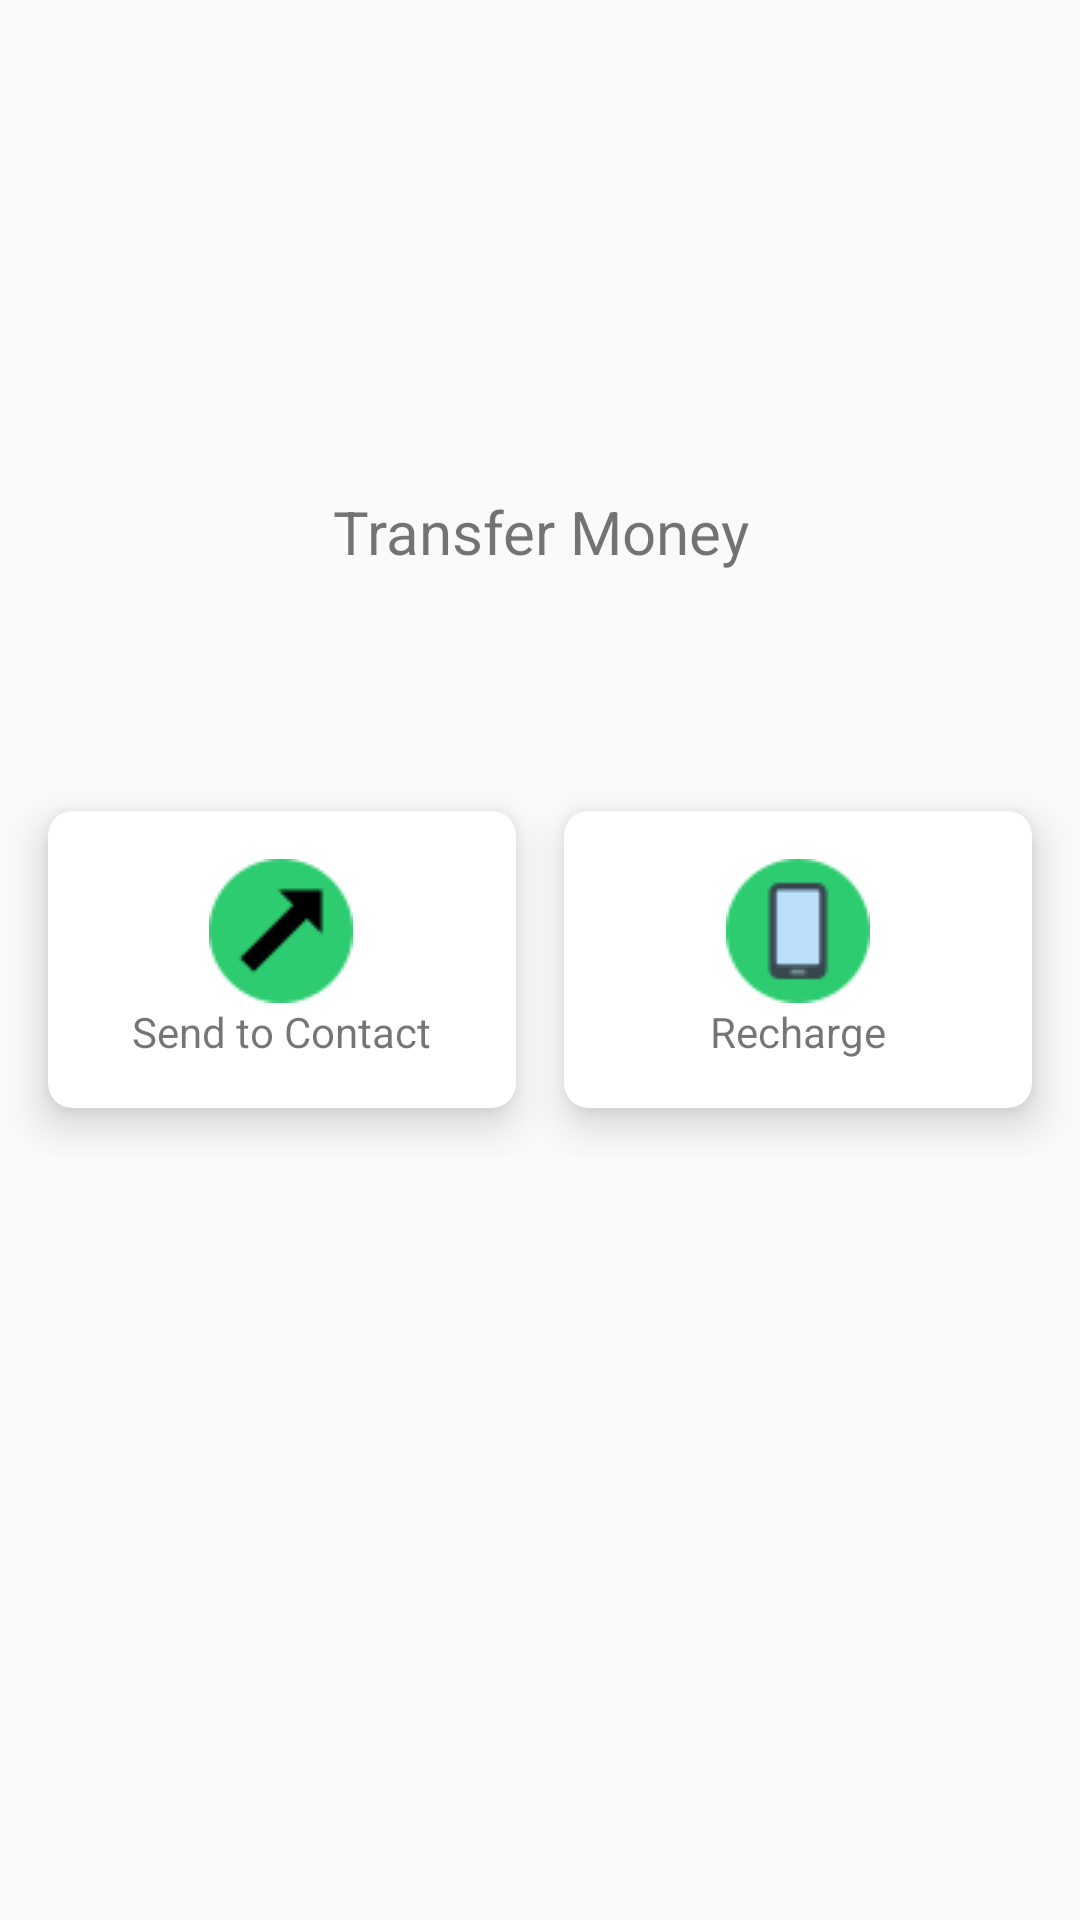

Icons on this 1080px x 1920px Android screen, each with its box as (x1, y1, x2, y2):
up right: (209, 859, 353, 1003)
